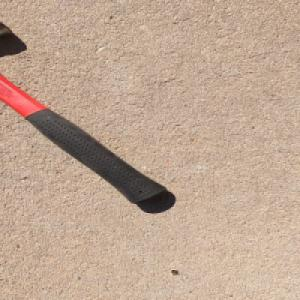Hammer: (0, 18, 173, 206)
